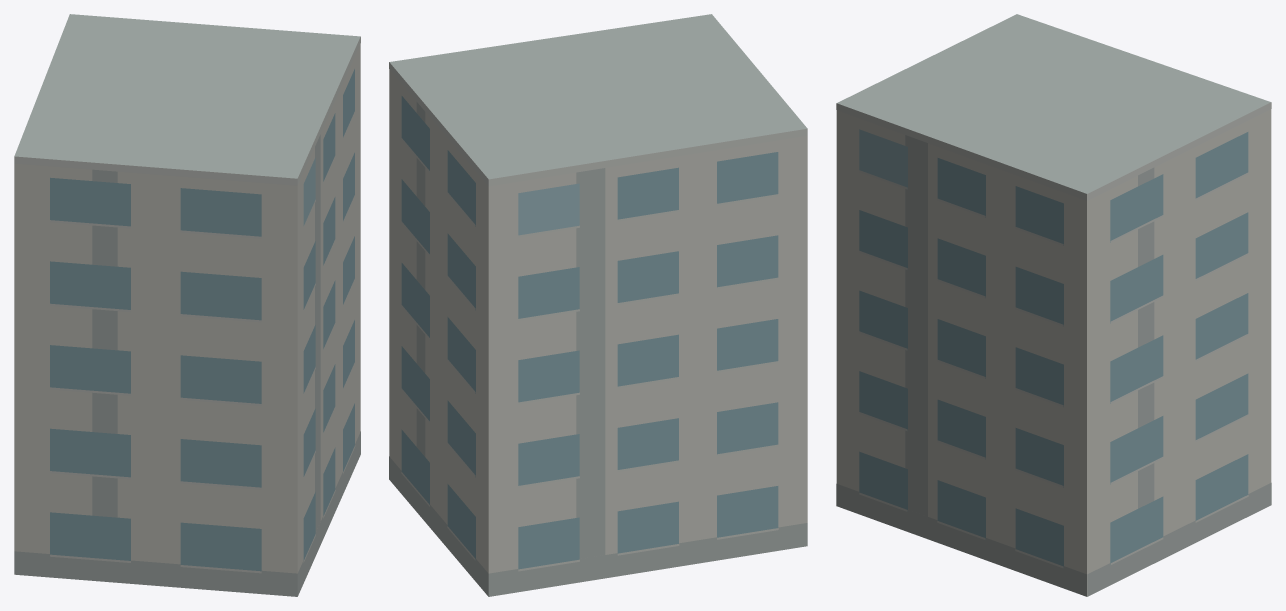
Rendered from survey-upis-32893371.glb.
The picture shows the model from 3 angles, left to right: view 1: azimuth 30°, elevation 25°; view 2: azimuth 150°, elevation 25°; view 3: azimuth 270°, elevation 25°; orthographic projection. The views are drawn at different scales.
Parts seen in each view (by area): view 1: survey-upis-32893371.tmp; view 2: survey-upis-32893371.tmp; view 3: survey-upis-32893371.tmp.
Boxes of the visible parts, bbox=[...] form: survey-upis-32893371.tmp: bbox=[14, 14, 360, 596]; survey-upis-32893371.tmp: bbox=[389, 14, 807, 596]; survey-upis-32893371.tmp: bbox=[836, 14, 1271, 596].
Bounding box in the file's own units: 13.79 × 14.39 × 14.08.
